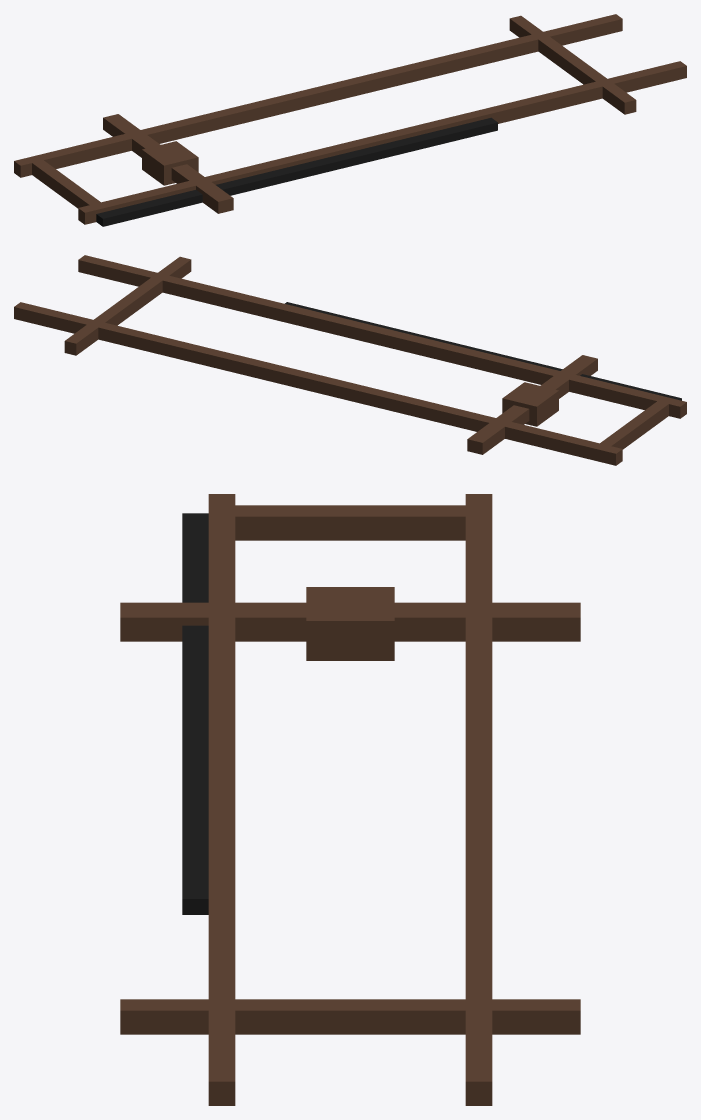
The model's file is burnt_out_van_chassis.glb.
3 renders of one model, top to bottom at view 1: azimuth 30°, elevation 25°; view 2: azimuth 150°, elevation 25°; view 3: azimuth 270°, elevation 25°, orthographic. The views are drawn at different scales.
Visible parts, largest first — view 1: body:compound; view 2: body:compound; view 3: body:compound.
Part boxes in pixels (x1,y1,x2,y2): body:compound: (14,14,686,226); body:compound: (14,255,686,465); body:compound: (120,494,580,1105).
Size of the model in its own units: 4.91 by 0.1562 by 1.62.
